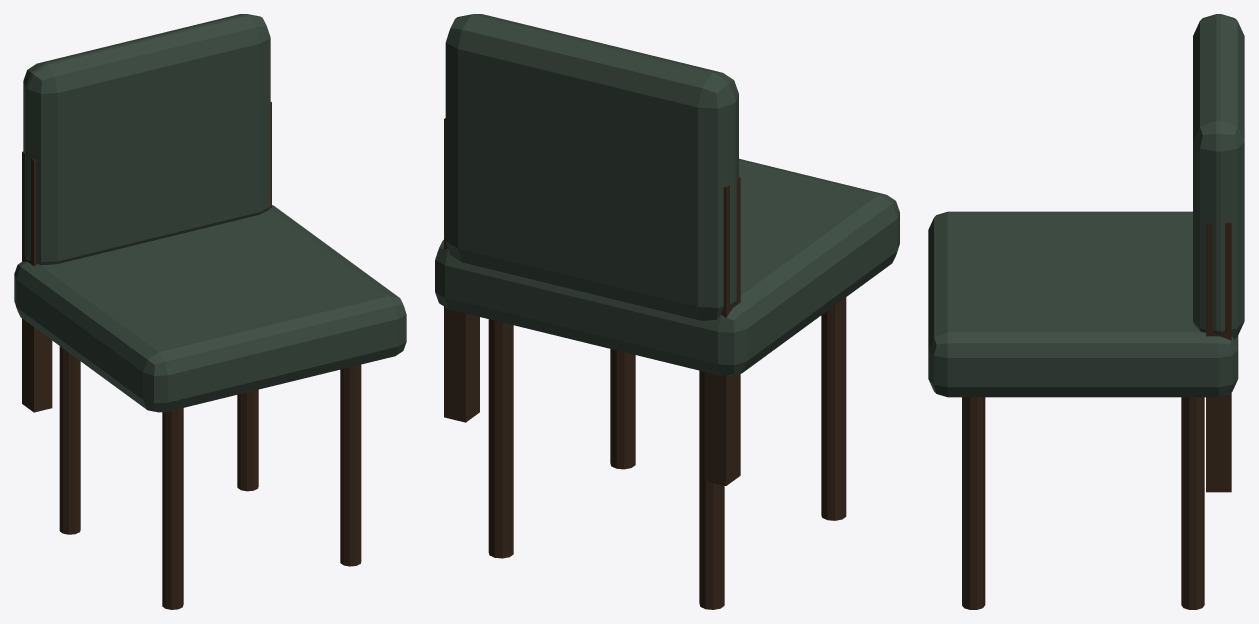
3 renders of one model, left to right at view 1: azimuth 30°, elevation 25°; view 2: azimuth 150°, elevation 25°; view 3: azimuth 270°, elevation 25°, orthographic. The views are drawn at different scales.
Parts seen in each view (by area): view 1: dining-chair; view 2: dining-chair; view 3: dining-chair.
Part boxes in pixels (bbox=[...]): dining-chair: bbox=[14, 14, 406, 609]; dining-chair: bbox=[435, 14, 899, 609]; dining-chair: bbox=[928, 14, 1244, 609].
Bounding box in the file's own units: 0.5 × 0.84 × 0.49.
